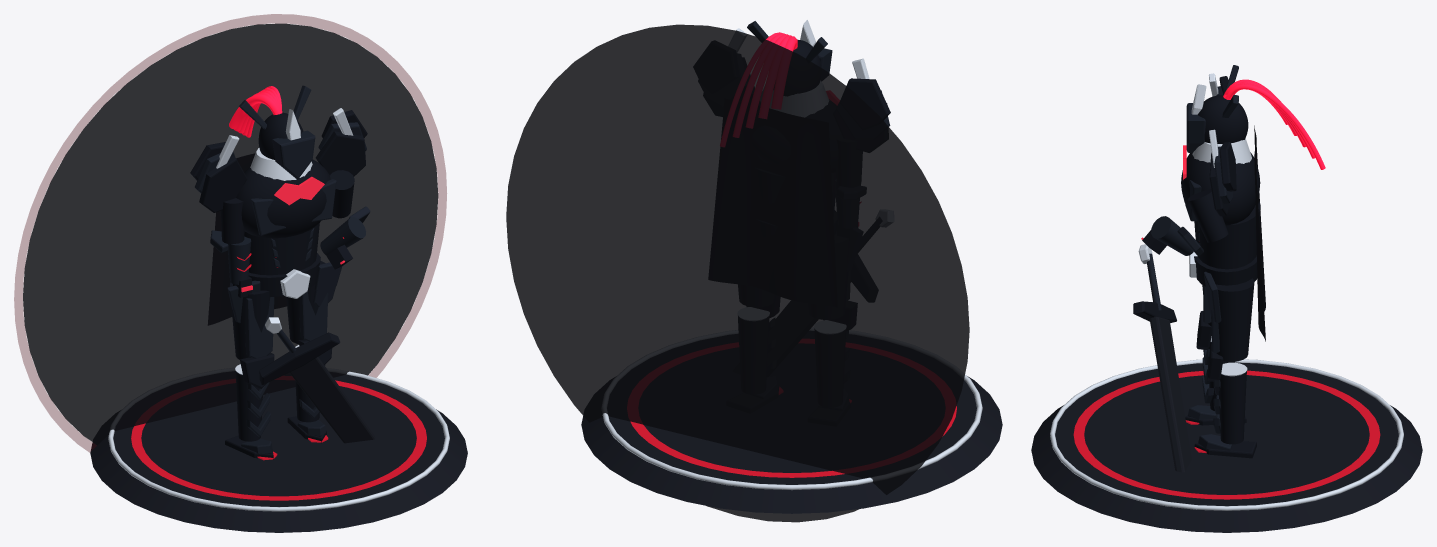
The model's file is shadow_knight.glb.
The picture shows the model from 3 angles, left to right: view 1: azimuth 30°, elevation 25°; view 2: azimuth 150°, elevation 25°; view 3: azimuth 270°, elevation 25°; orthographic projection. The views are drawn at different scales.
Parts seen in each view (by area): view 1: ShadowAuraGroup, PedestalGroup, TorsoGroup, LegsGroup, GreatswordGroup, HelmetGroup, HipsGroup, BlackCapeMesh, CrimsonPlumeGroup; view 2: ShadowAuraGroup, PedestalGroup, TorsoGroup, HelmetGroup, CrimsonPlumeGroup; view 3: PedestalGroup, TorsoGroup, LegsGroup, GreatswordGroup, HelmetGroup, HipsGroup, CrimsonPlumeGroup, BlackCapeMesh.
Part boxes in pixels (box(x1,y1,x2,y2)): ShadowAuraGroup: box(14, 14, 446, 452); PedestalGroup: box(90, 370, 467, 532); TorsoGroup: box(190, 108, 370, 297); LegsGroup: box(225, 260, 332, 460); GreatswordGroup: box(259, 317, 375, 443); HelmetGroup: box(239, 85, 315, 179); HipsGroup: box(227, 253, 342, 323); BlackCapeMesh: box(207, 153, 286, 325); CrimsonPlumeGroup: box(229, 86, 282, 137); ShadowAuraGroup: box(506, 24, 969, 522); PedestalGroup: box(581, 333, 1002, 513); TorsoGroup: box(696, 28, 890, 233); HelmetGroup: box(747, 20, 832, 94); CrimsonPlumeGroup: box(726, 32, 797, 132); PedestalGroup: box(1031, 359, 1422, 532); TorsoGroup: box(1141, 73, 1260, 269); LegsGroup: box(1185, 278, 1256, 458); GreatswordGroup: box(1133, 244, 1191, 472); HelmetGroup: box(1186, 65, 1248, 152); HipsGroup: box(1189, 252, 1257, 323); CrimsonPlumeGroup: box(1223, 79, 1325, 169); BlackCapeMesh: box(1254, 125, 1265, 341).
Size of the model in its own units: 4.9 by 4.9 by 3.7.
